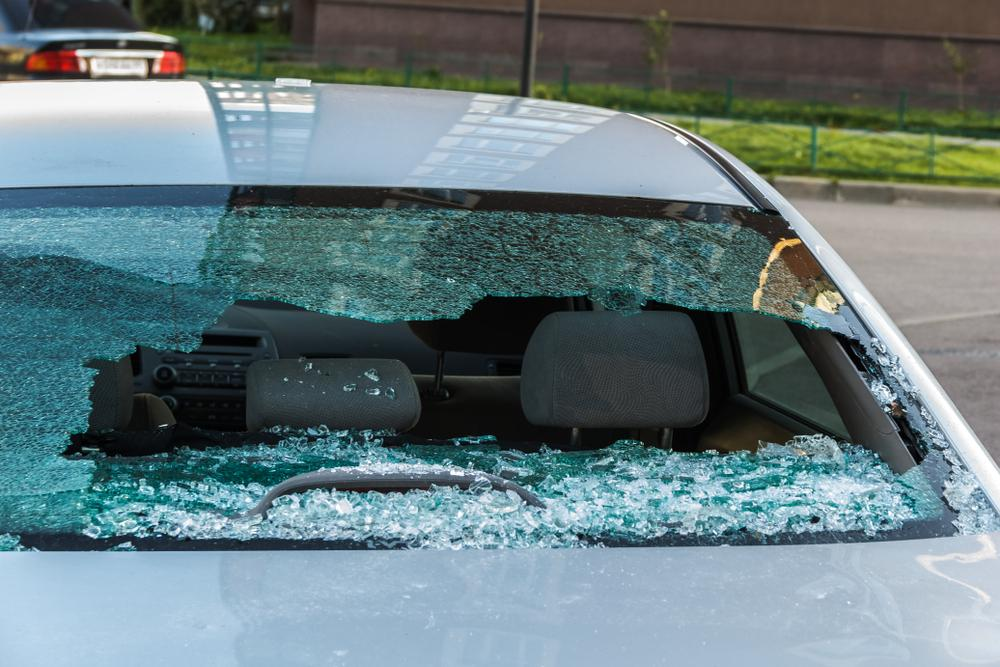glass shatter: (0, 187, 1000, 550)
